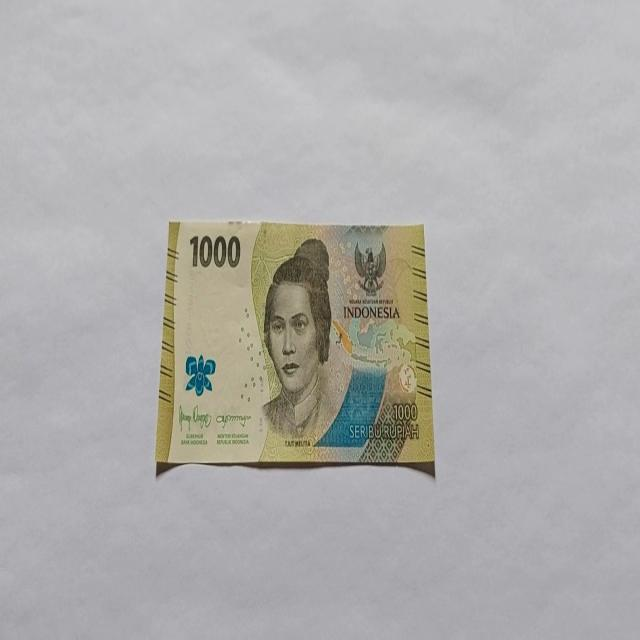seribu rupiah kertas: (154, 218, 434, 476)
